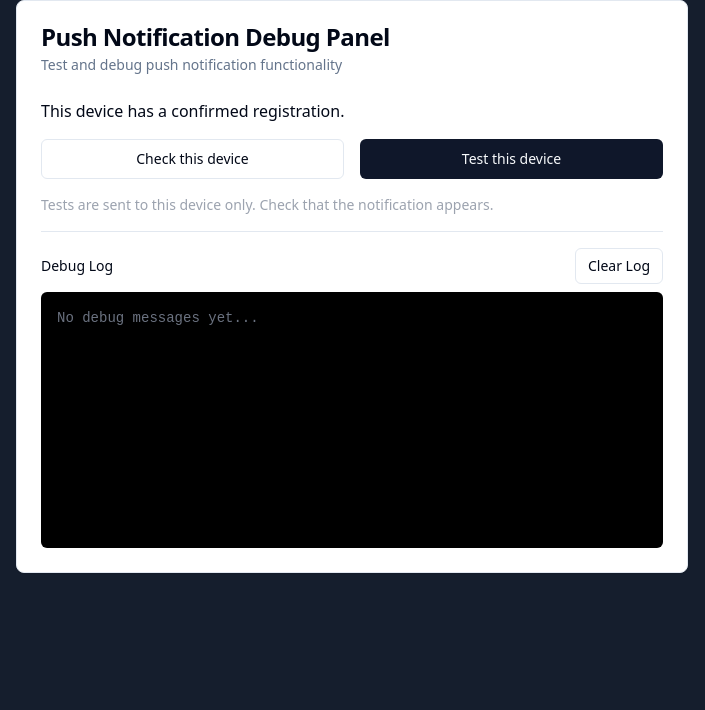
Test: fixed current-device push diagnostics › shows queued and push-service acceptance without claiming the notification appeared
The width and height of the screenshot is (705, 710).
Click the button "Test this device" at (512, 159), box x1=360 y1=139 x2=663 y2=179
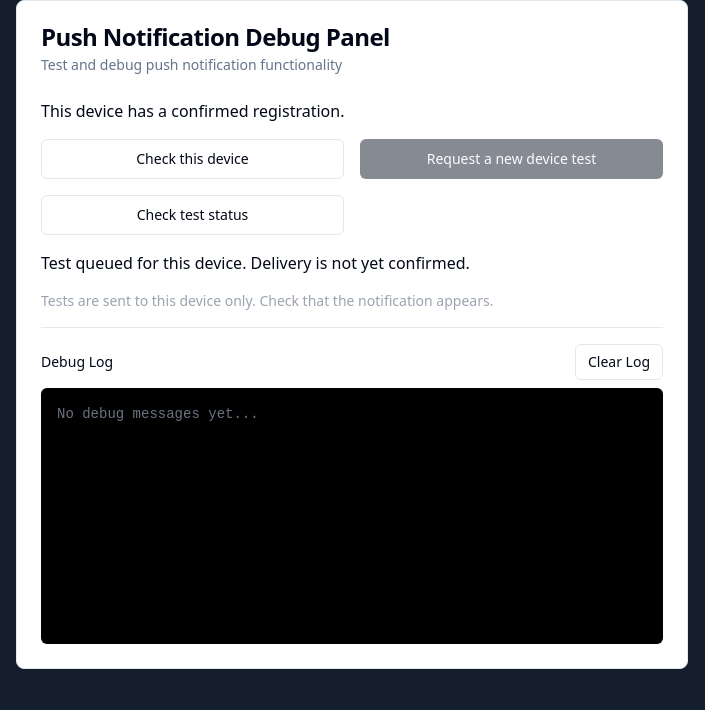
expect the text "Test queued for this device. Delivery is not yet confirmed." is shown: met, box x1=41 y1=252 x2=470 y2=274
expect the button "Request a new device test" is disabled: met, box x1=360 y1=139 x2=663 y2=179
Click the button "Check test status" at (192, 215), box x1=41 y1=195 x2=344 y2=235
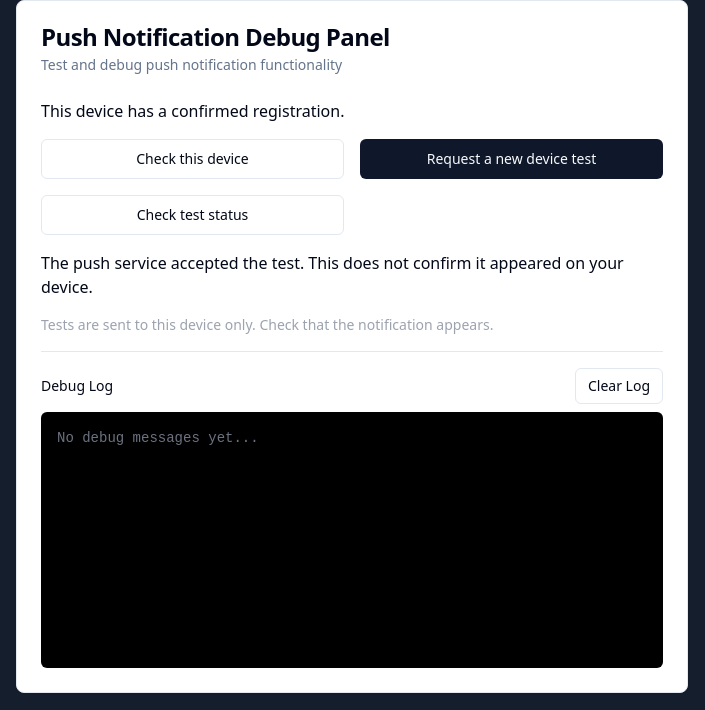
expect the text "The push service accepted the test. This does not confirm it appeared on your device." is shown: met, box x1=41 y1=252 x2=624 y2=298
expect the button "Request a new device test" is enabled: met, box x1=360 y1=139 x2=663 y2=179
